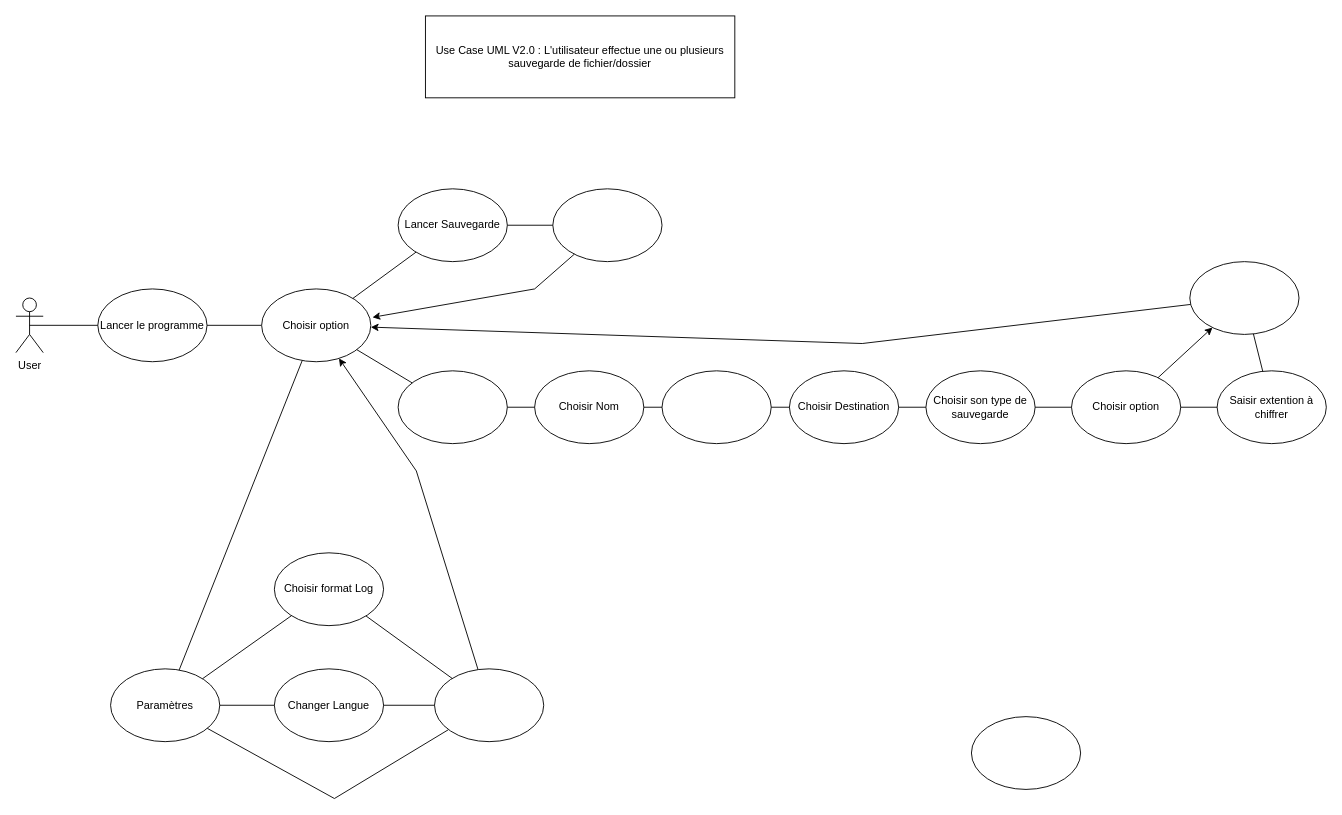
Image size: 1342x815. Some labels were removed from this diagram. The centre of each missing label's shape, as x and y in pixels:
"Choisir Sauvegarde (1-3, 1; 3)" belongs at [607,225].
"Choisir Source" belongs at [716,407].
"Créer Sauvegarde" belongs at [452,407].
"En option (Revenir à l'étape d'avant)" belongs at [1026,752].
"Retour" belongs at [489,705].
"Retour au menu" belongs at [1244,297].
